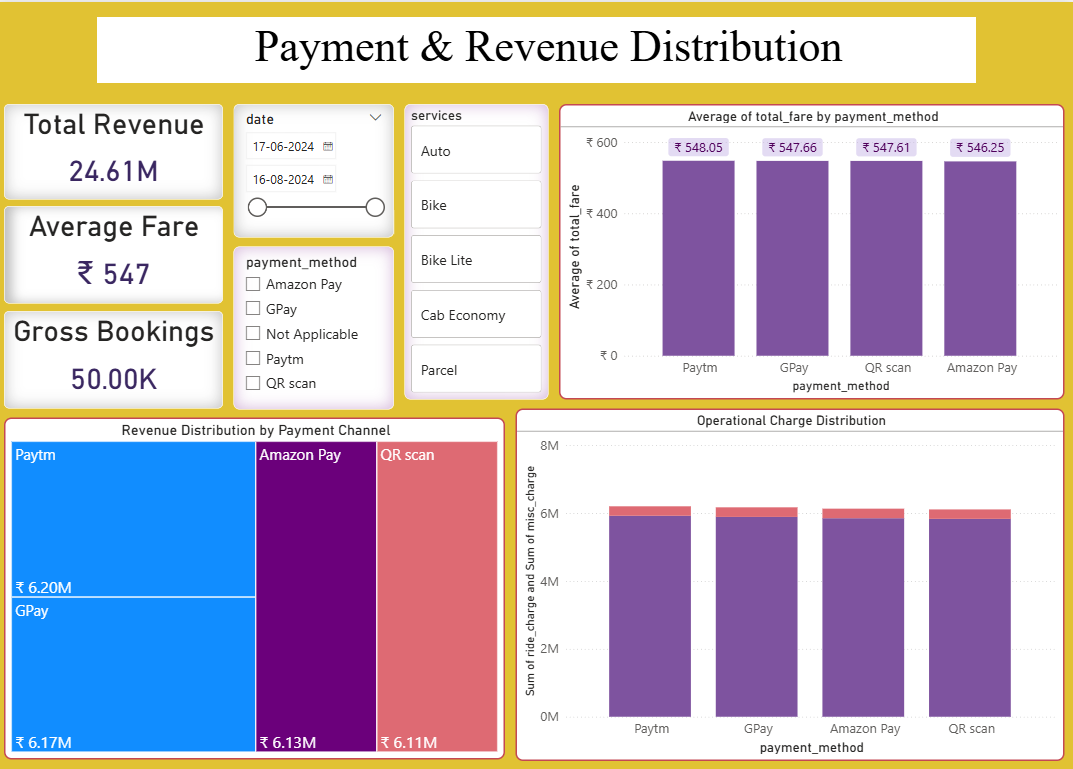

What the dashboard file says about the page in this screenshot:
{"tool":"powerbi","page":{"name":"Page 5","canvas":[1440,1024],"ordinal":4},"visuals":[{"type":"card","title":"Total Revenue","fields":{"Values":["rides_data.Total Revenue"]},"box":[12,136,292,127],"z":0},{"type":"card","title":"Gross Bookings","fields":{"Values":["CountNonNull(rides_data.ride_id)"]},"box":[12,412,292,130],"z":1000},{"type":"card","title":"Average Fare","fields":{"Values":["Avg(rides_data.total_fare)"]},"box":[12,272,292,130],"z":2000},{"type":"treemap","title":"Revenue Distribution by Payment Channel","fields":{"Group":["rides_data.payment_method"],"Values":["Sum(rides_data.total_fare)"]},"box":[12,554,668,456],"z":3000},{"type":"columnChart","title":"Operational Charge Distribution","fields":{"Category":["rides_data.payment_method"],"Y":["Sum(rides_data.ride_charge)","Sum(rides_data.misc_charge)"]},"box":[694,542,732,470],"z":4000},{"type":"clusteredColumnChart","fields":{"Category":["rides_data.payment_method"],"Y":["Avg(rides_data.total_fare)"]},"box":[752,136,674,394],"z":5000},{"type":"advancedSlicerVisual","fields":{"Values":["rides_data.services"]},"box":[546,136,192,394],"z":6000},{"type":"slicer","fields":{"Values":["rides_data.date"]},"box":[318,136,214,178],"z":7000},{"type":"textbox","box":[136,20,1172,88],"z":8000},{"type":"slicer","fields":{"Values":["rides_data.payment_method"]},"box":[318,326,214,217],"z":9000}]}

Visuals, with their boxes in screenshot pixels (x1, y1, x2, y2), scaled from the page's 1440x1024 canvas onto the 1073x769 screenshot:
"Total Revenue" card: detection(9, 102, 227, 198)
"Gross Bookings" card: detection(9, 309, 227, 407)
"Average Fare" card: detection(9, 204, 227, 302)
"Revenue Distribution by Payment Channel" treemap: detection(9, 416, 507, 758)
"Operational Charge Distribution" columnChart: detection(517, 407, 1063, 760)
clusteredColumnChart - rides_data.payment_method x Avg(rides_data.total_fare): detection(560, 102, 1063, 398)
advancedSlicerVisual - rides_data.services: detection(407, 102, 550, 398)
slicer - rides_data.date: detection(237, 102, 396, 236)
textbox: detection(101, 15, 975, 81)
slicer - rides_data.payment_method: detection(237, 245, 396, 408)
